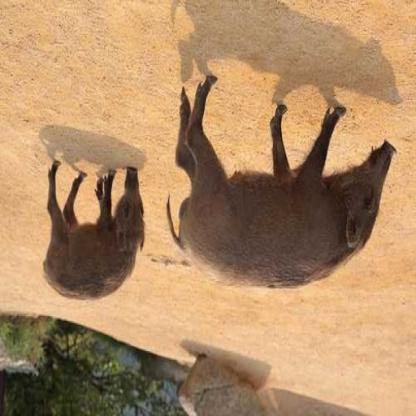boar: (148, 56, 407, 332)
